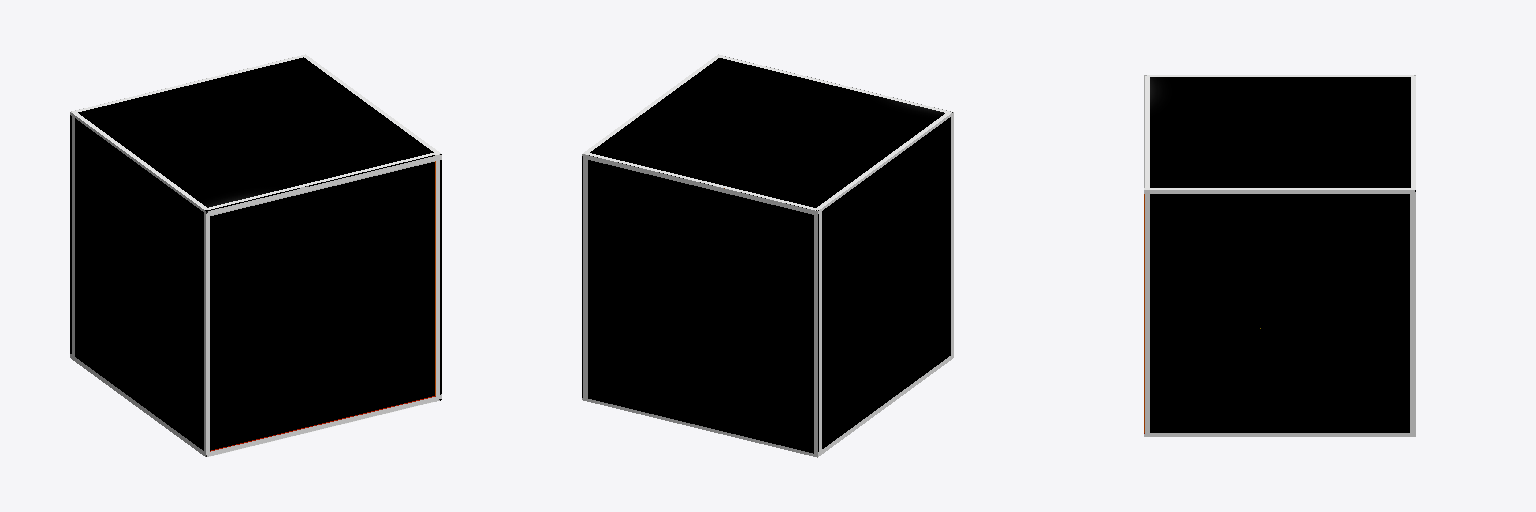
3 renders of one model, left to right at view 1: azimuth 30°, elevation 25°; view 2: azimuth 150°, elevation 25°; view 3: azimuth 270°, elevation 25°, orthographic.
Parts seen in each view (by area): view 1: Cube; view 2: Cube; view 3: Cube.
Part boxes in pixels (left/top/right/bottom): Cube: left=70, top=54, right=441, bottom=456; Cube: left=582, top=54, right=953, bottom=457; Cube: left=1144, top=75, right=1415, bottom=436.
Size of the model in its own units: 0.8889 by 0.8889 by 0.8889.
Materials: 1 (1 with a texture image).